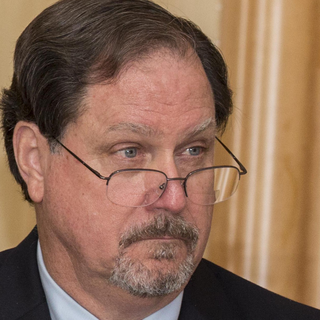eye: (106, 141, 149, 161), (174, 139, 208, 161)
